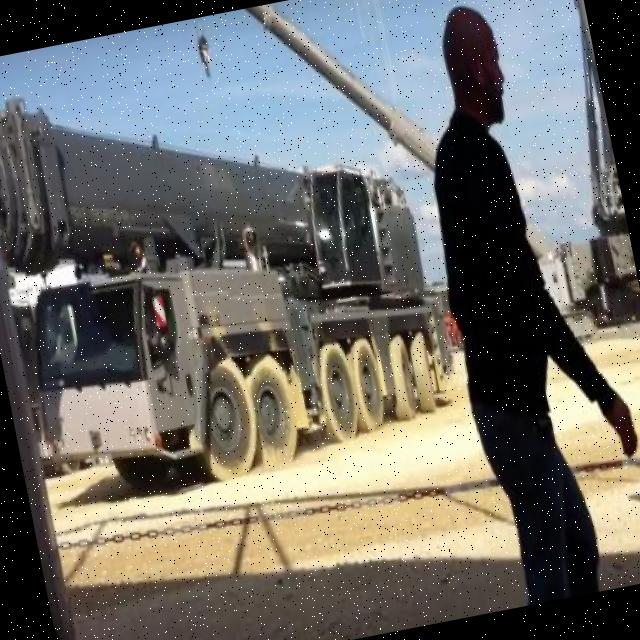Mobile Crane: (0, 42, 461, 513)
